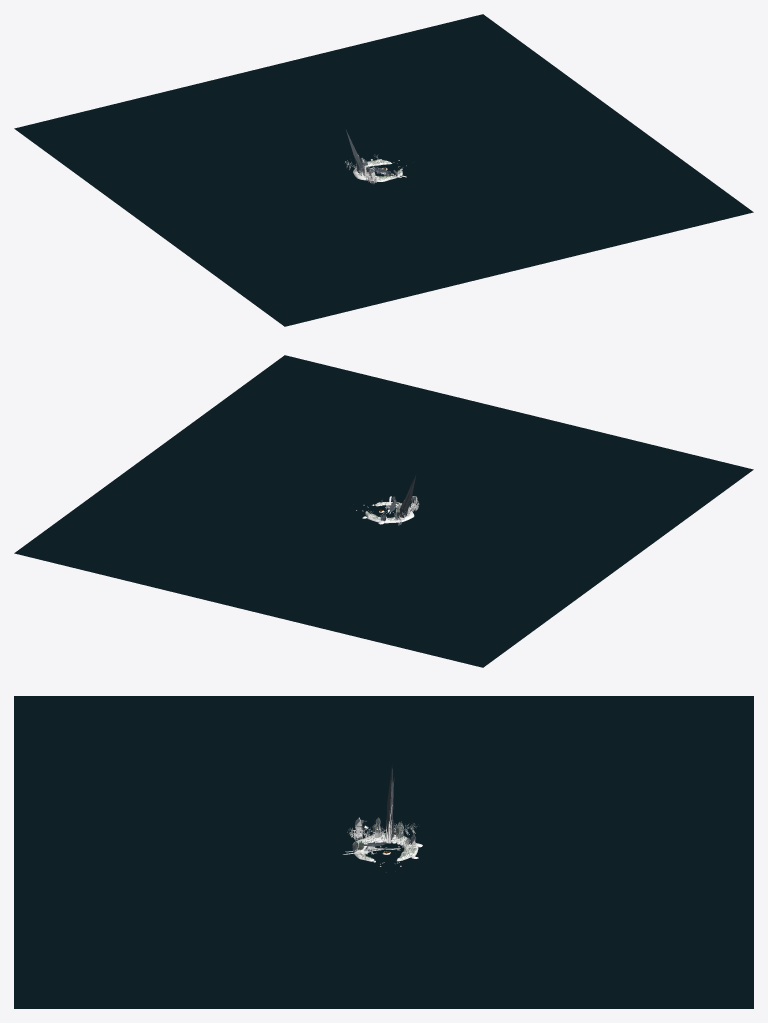
Rendered from world.glb.
3 views of the same model, one above another, from view 1: azimuth 30°, elevation 25°; view 2: azimuth 150°, elevation 25°; view 3: azimuth 270°, elevation 25° (orthographic). The views are drawn at different scales.
Visible parts, largest first — view 1: Plane.4714; view 2: Plane.4714; view 3: Plane.4714, Cylinder.032.
Boxes of the visible parts, <box> form: Plane.4714: <box>14,14,753,326</box>; Plane.4714: <box>14,355,753,667</box>; Plane.4714: <box>14,696,753,1008</box>; Cylinder.032: <box>352,832,418,861</box>.
Size of the model in its own units: 202 by 35.67 by 202.
20 materials, 3 textured.
